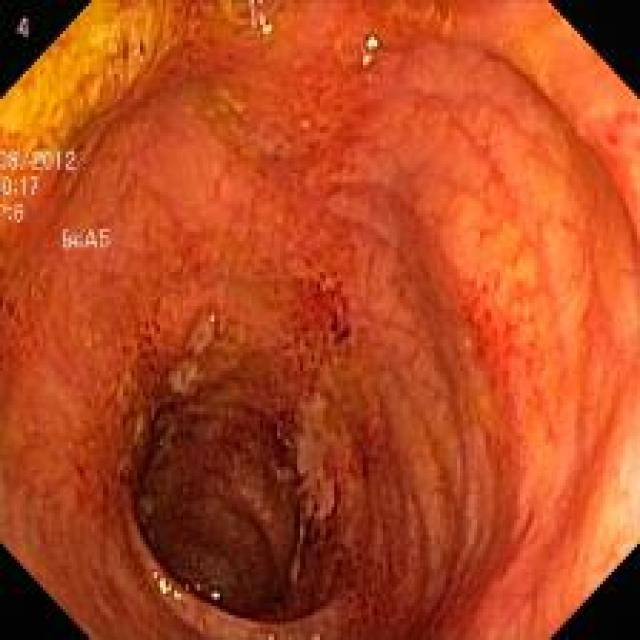ulcerative-colitis-grade-1: (14, 23, 635, 640)
